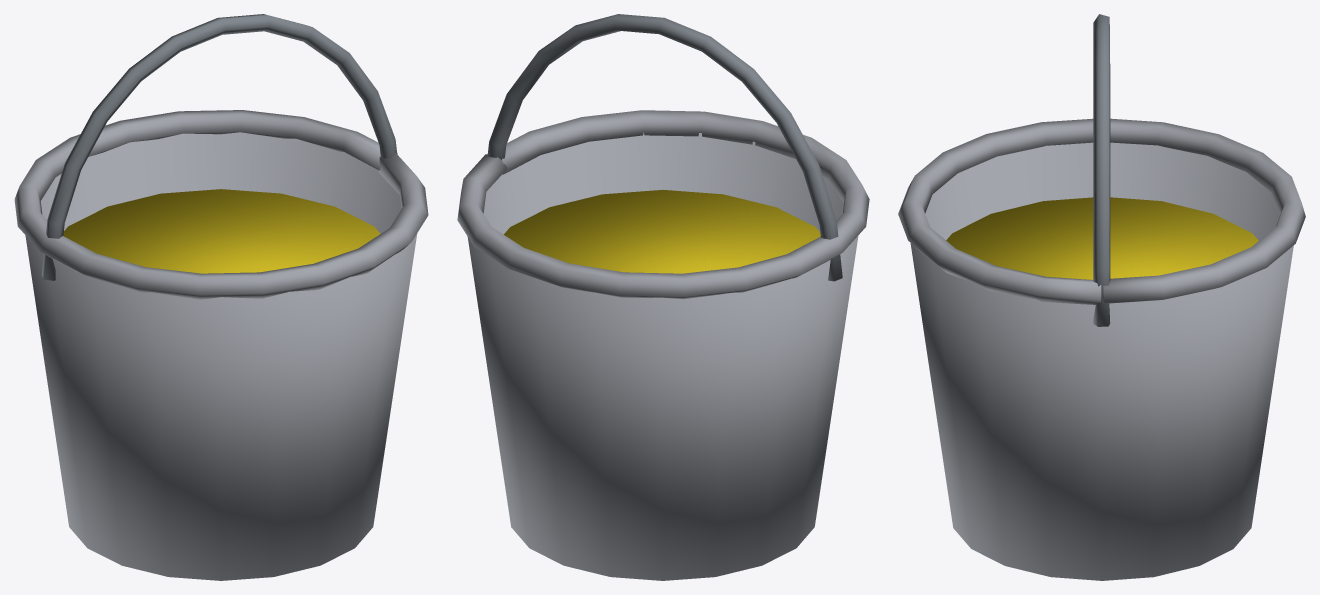
The model's file is yellow_paint.glb.
3 views of the same model, side by side, from view 1: azimuth 30°, elevation 25°; view 2: azimuth 150°, elevation 25°; view 3: azimuth 270°, elevation 25° (orthographic).
Parts seen in each view (by area): view 1: yellow_paint_v0; view 2: yellow_paint_v0; view 3: yellow_paint_v0.
Boxes of the visible parts, x1,y1,x2,y2 form: yellow_paint_v0: (14,14,428,580); yellow_paint_v0: (457,14,869,580); yellow_paint_v0: (898,14,1305,580).
Size of the model in its own units: 0.2696 by 0.3556 by 0.2693.
